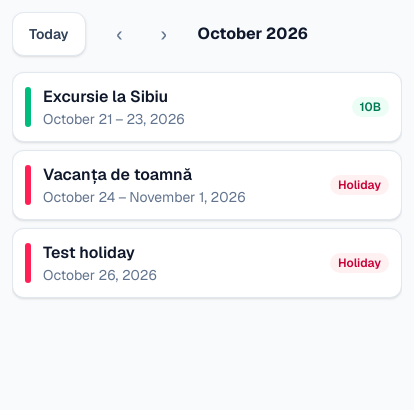
Test case: SchoolCalendar › lists the month on phones in date order, one entry per event
Step 1. Click the button "Excursie la Sibiu October 21 – 23, 2026 10B" → point(106, 96), box [12,72,402,142]
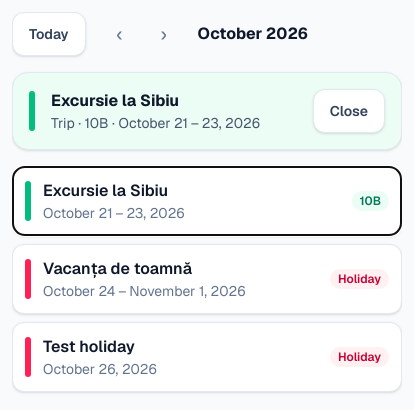
Result: the element "Excursie la Sibiu" shows "10B" at [51,114,109,132]
